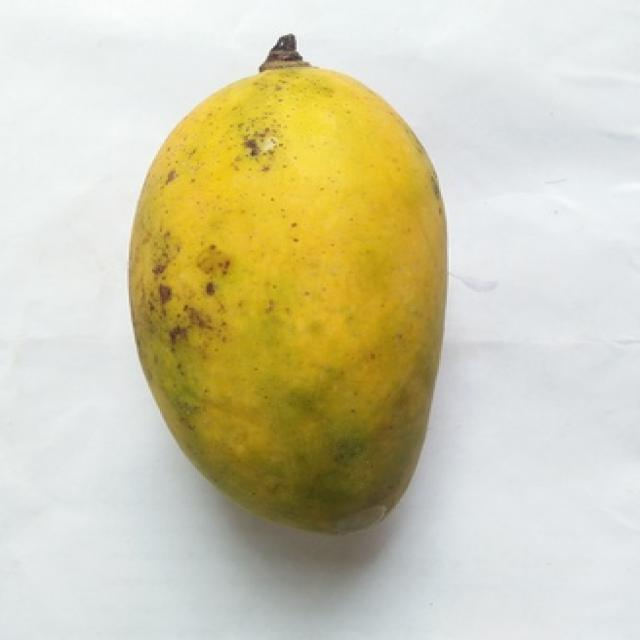Mango: (129, 38, 445, 530)
